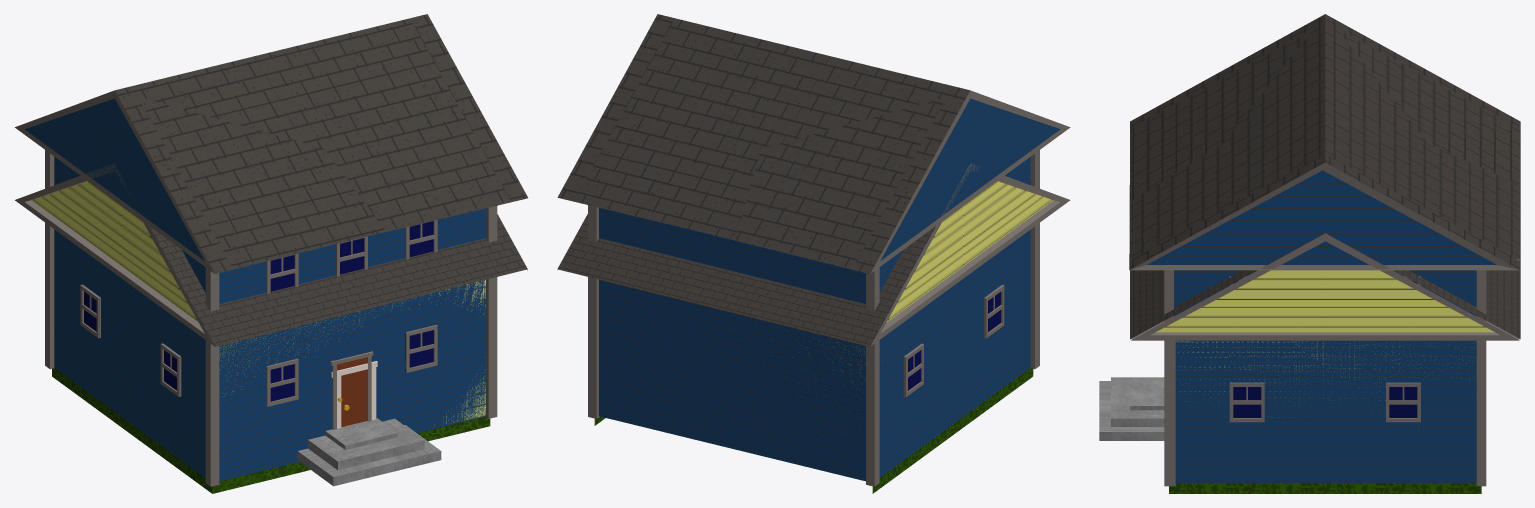
Rendered from wall_tiles.glb.
The picture shows the model from 3 angles, left to right: view 1: azimuth 30°, elevation 25°; view 2: azimuth 150°, elevation 25°; view 3: azimuth 270°, elevation 25°; orthographic projection. The views are drawn at different scales.
Parts seen in each view (by area): view 1: house_half_01, house_half_02, house_small, wall_back_edge, wall_inner_post; view 2: house_half_01, house_small, house_half_02, wall_back_edge; view 3: house_half_02, house_half_01, house_small, wall_back_edge.
Boxes of the visible parts, box(x1,y1,x2,y2) form: house_half_01: box(15, 18, 510, 486); house_half_02: box(138, 14, 527, 486); house_small: box(15, 163, 527, 486); wall_back_edge: box(52, 367, 490, 493); wall_inner_post: box(212, 427, 484, 493); house_half_01: box(574, 18, 1070, 486); house_small: box(557, 163, 1070, 485); house_half_02: box(557, 14, 946, 418); wall_back_edge: box(594, 368, 1033, 493); house_half_02: box(1099, 29, 1520, 486); house_half_01: box(1130, 14, 1520, 260); house_small: box(1130, 233, 1520, 486); wall_back_edge: box(1169, 483, 1481, 493).
Size of what is drawn, in the model's own units: 9.01 by 9.6 by 10.79.
Materials: 13 (7 with a texture image).
